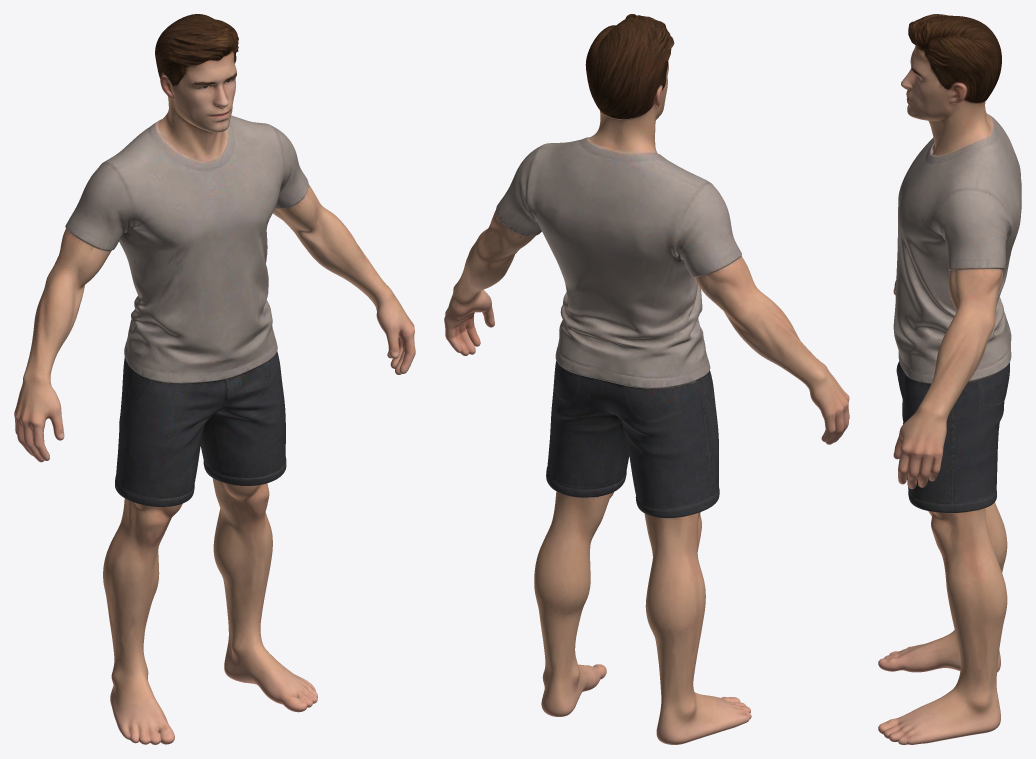
The model's file is human-real.glb.
The picture shows the model from 3 angles, left to right: view 1: azimuth 30°, elevation 25°; view 2: azimuth 150°, elevation 25°; view 3: azimuth 270°, elevation 25°; orthographic projection.
Visible parts, largest first — view 1: man-base-character; view 2: man-base-character; view 3: man-base-character.
Boxes of the visible parts, x1,y1,x2,y2 form: man-base-character: (14,14,415,744); man-base-character: (444,14,849,744); man-base-character: (878,14,1021,744).
Bounding box in the file's own units: 1.08 × 1.8 × 0.3418.
Materials: 1 (1 with a texture image).
